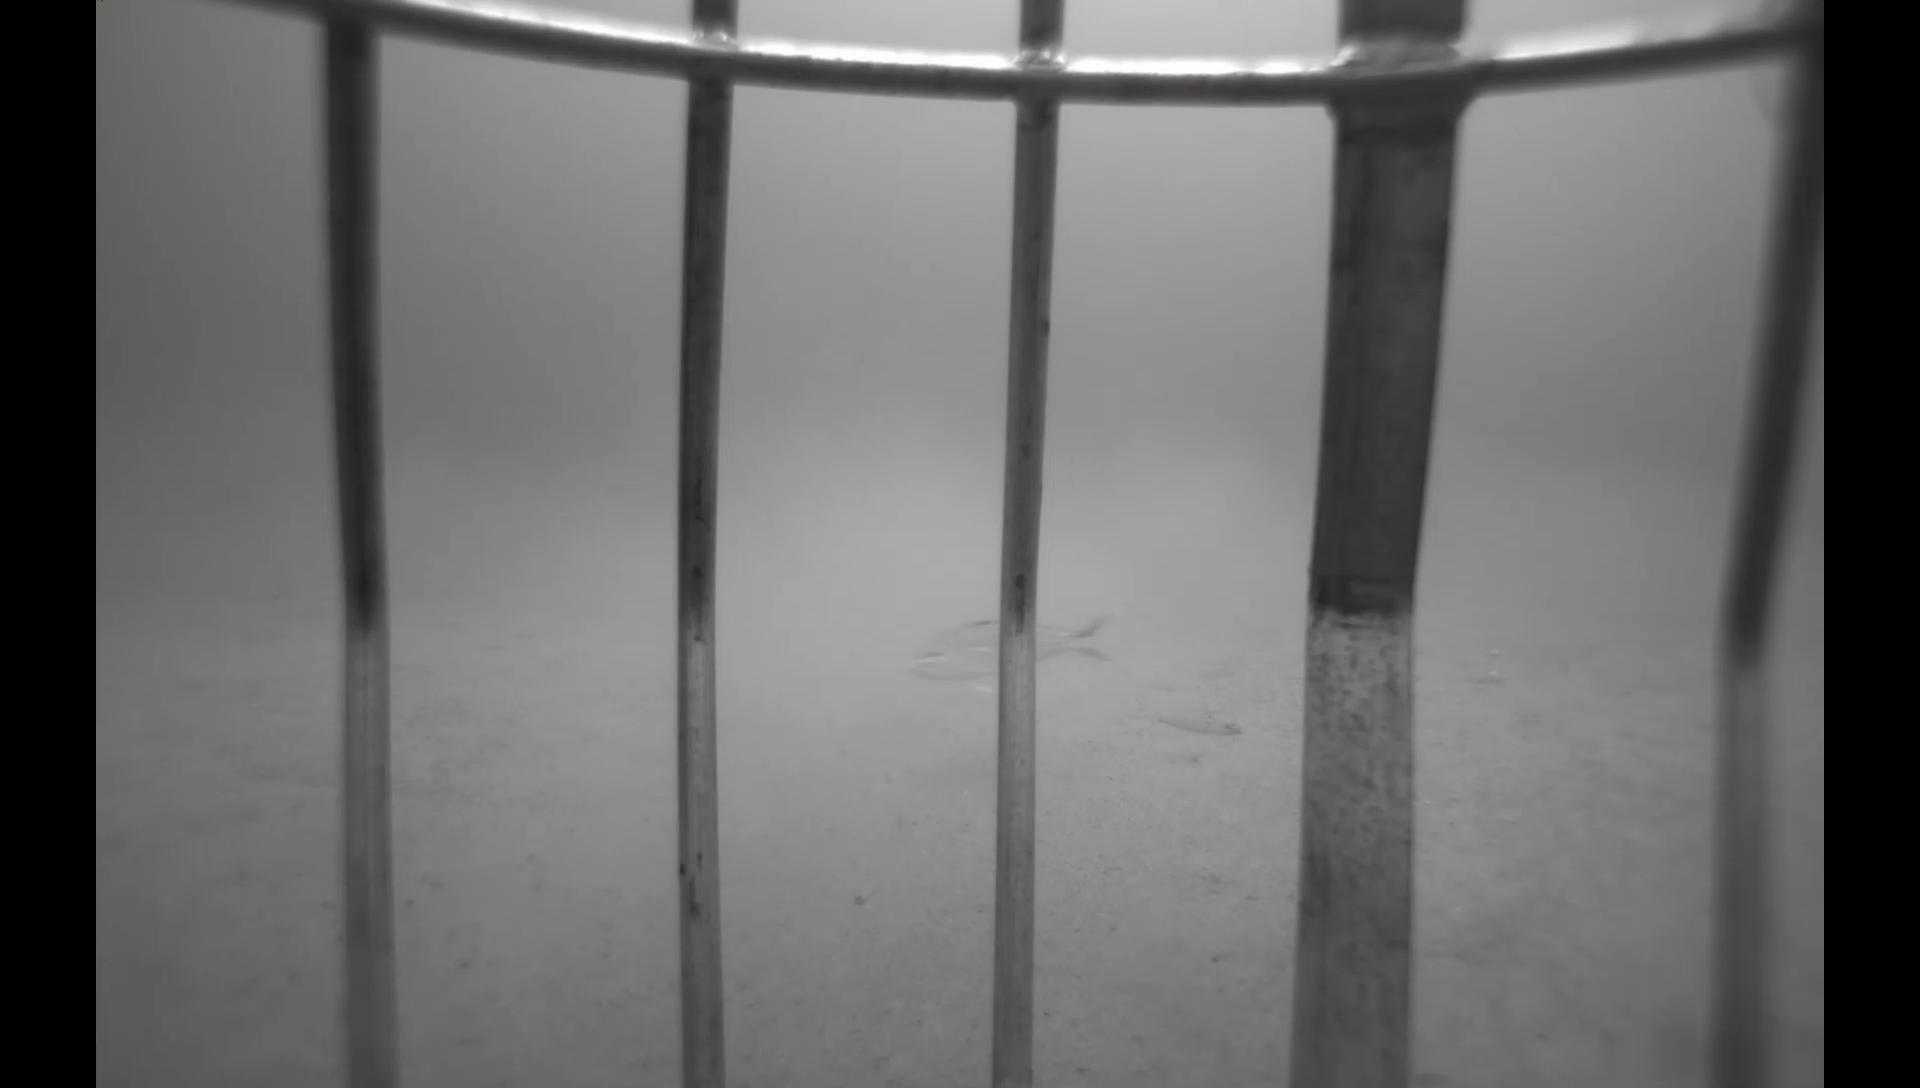CAULOLATILUSCYANOPS-170070101: (897, 604, 1126, 702)
SYACIUM-183011000: (1141, 696, 1247, 739)
